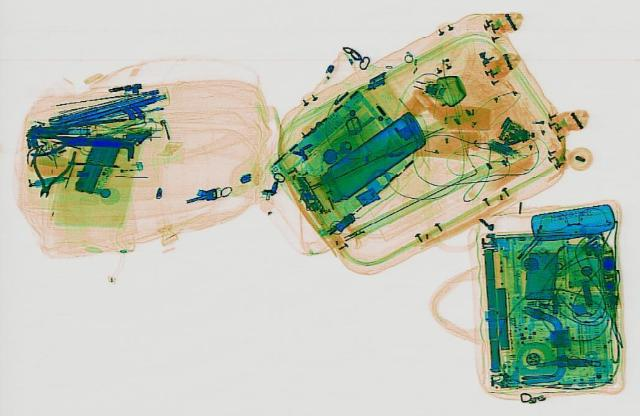Pliers: (26, 134, 84, 155)
